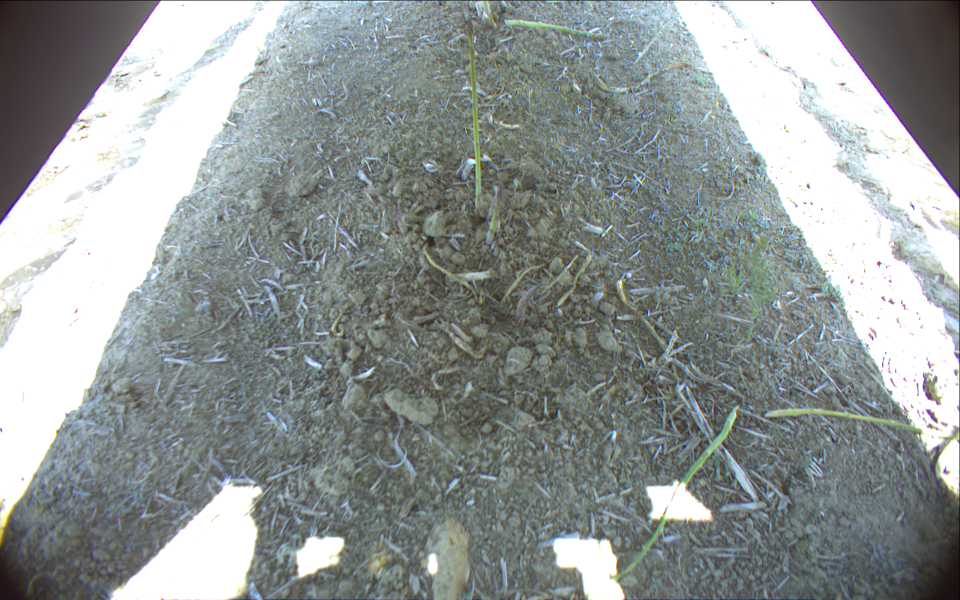aspa: (610, 404, 739, 580), (764, 408, 960, 440), (616, 279, 670, 353), (465, 19, 484, 208), (594, 60, 692, 94), (504, 18, 613, 39), (484, 187, 503, 246), (514, 284, 543, 321), (395, 205, 407, 236), (483, 1, 495, 27), (489, 191, 497, 221), (506, 43, 513, 65)
